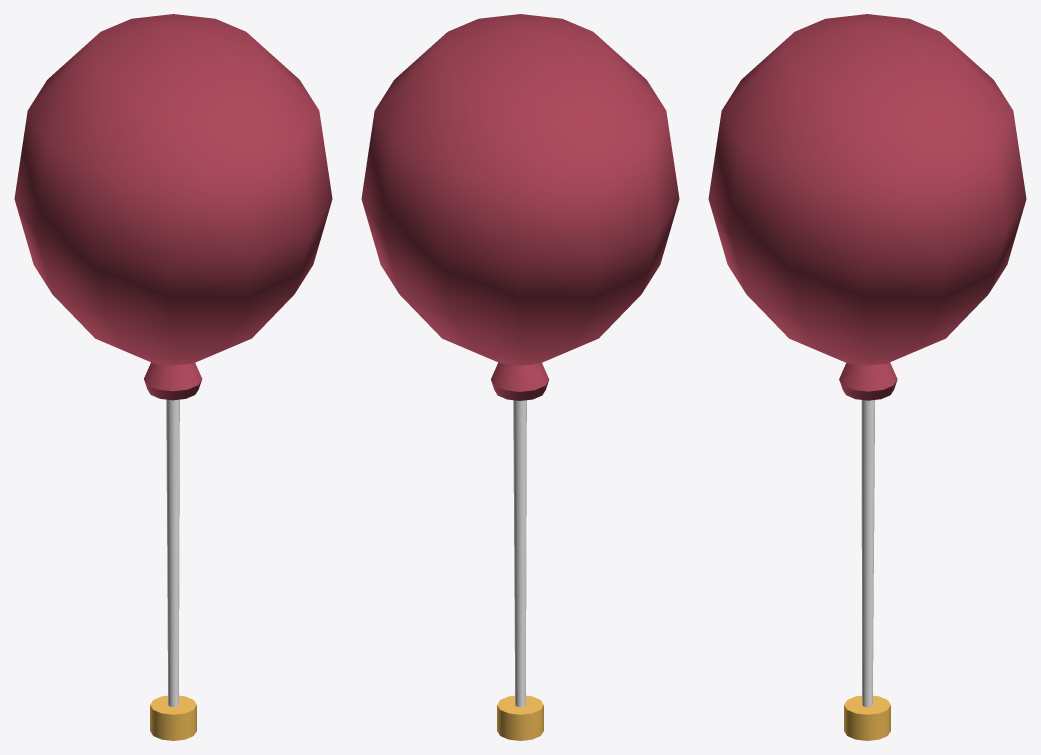
File: Pungsun3-2.fbx
3 views of the same model, side by side, from view 1: azimuth 30°, elevation 25°; view 2: azimuth 150°, elevation 25°; view 3: azimuth 270°, elevation 25° (orthographic).
Visible parts, largest first — view 1: Pungsun3-2; view 2: Pungsun3-2; view 3: Pungsun3-2.
Part boxes in pixels (x1,y1,x2,y2): Pungsun3-2: [14, 14, 332, 740]; Pungsun3-2: [361, 14, 679, 740]; Pungsun3-2: [708, 14, 1026, 740].
Size of the model in its own units: 0.1381 by 0.3374 by 0.1381.
